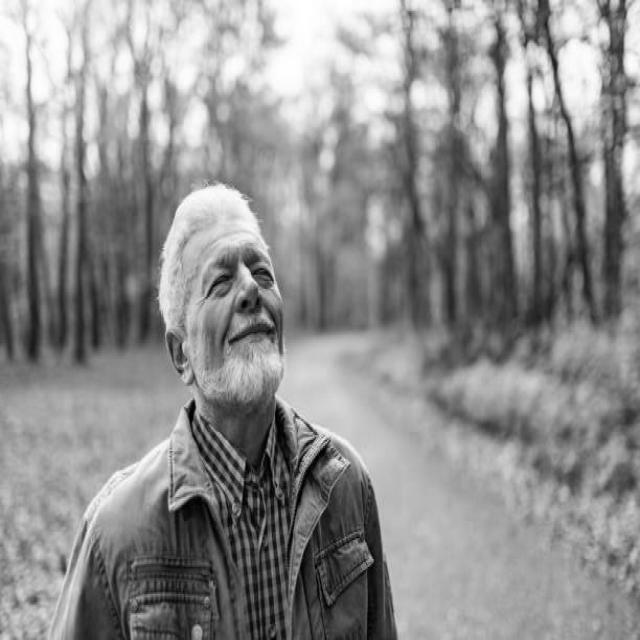real: (164, 190, 288, 408), (188, 246, 292, 302)
